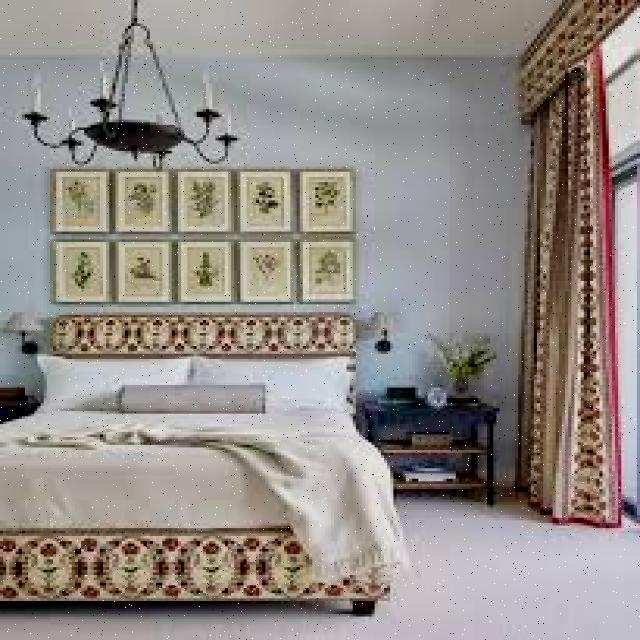bed: (0, 346, 347, 536)
